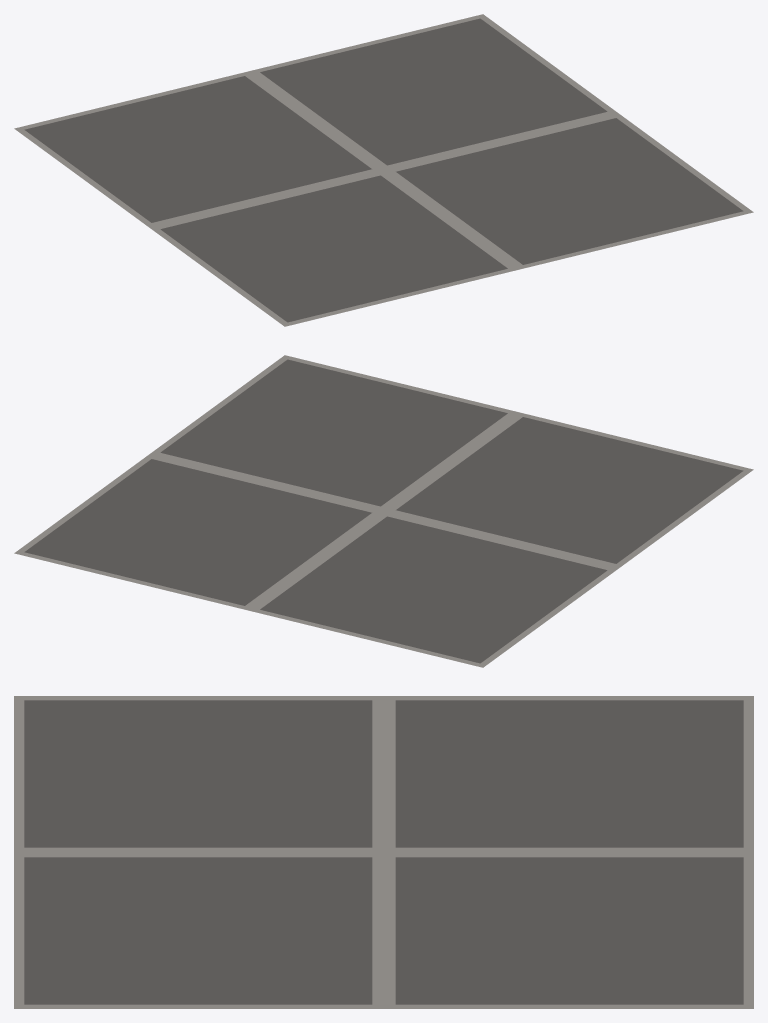
The model's file is Floor2.glb.
3 renders of one model, top to bottom at view 1: azimuth 30°, elevation 25°; view 2: azimuth 150°, elevation 25°; view 3: azimuth 270°, elevation 25°, orthographic. The views are drawn at different scales.
Visible parts, largest first — view 1: SI_Env_Floor_02; view 2: SI_Env_Floor_02; view 3: SI_Env_Floor_02.
Part boxes in pixels (<box>): SI_Env_Floor_02: <box>14,14,753,326</box>; SI_Env_Floor_02: <box>14,355,753,667</box>; SI_Env_Floor_02: <box>14,696,753,1008</box>.
Bounding box in the file's own units: 0.05 × 1.11e-17 × 0.05.
1 material, 1 textured.
